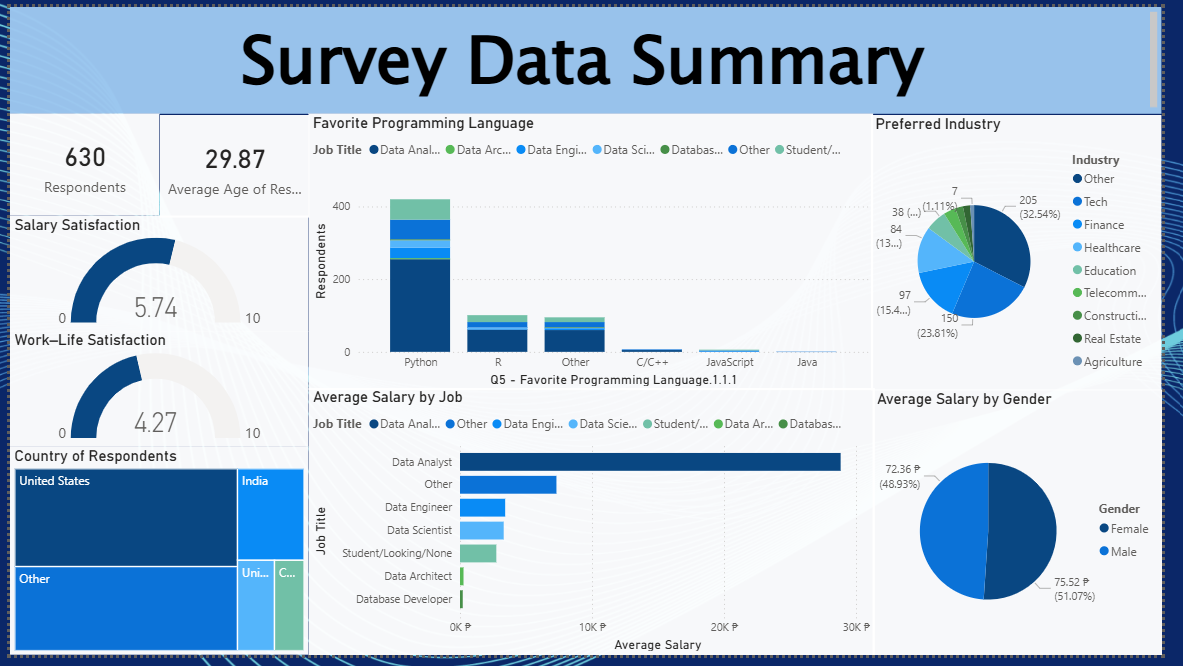

This screenshot's page, from the dashboard's own definition file:
{"tool":"powerbi","page":{"name":"Page 1","canvas":[1280,720],"ordinal":0},"visuals":[{"type":"textbox","box":[0,0,1279.4,118.5],"z":0},{"type":"card","fields":{"Values":["CountNonNull(Data Professional Survey.Unique ID)"]},"box":[0,119,166,113],"z":1000},{"type":"card","fields":{"Values":["Avg(Data Professional Survey.Q10 - Current Age)"]},"box":[166,120,166,114],"z":2000},{"type":"barChart","title":"Average Salary by Job","fields":{"Category":["Data Professional Survey.Q1 - Which Title Best Fits your Current Role?.1"],"Y":["Sum(Data Professional Survey.Average Salary)"],"Series":["Data Professional Survey.Q1 - Which Title Best Fits your Current Role?.1"]},"box":[331,423,629,297],"z":3000},{"type":"columnChart","title":"Favorite Programming Language ","fields":{"Category":["Data Professional Survey.Q5 - Favorite Programming Language.1.1.1"],"Y":["CountNonNull(Data Professional Survey.Unique ID)"],"Series":["Data Professional Survey.Q1 - Which Title Best Fits your Current Role?.1"]},"box":[331.2,118.8,627.5,307.5],"z":4000},{"type":"treemap","title":"Country of Respondents","fields":{"Group":["Data Professional Survey.Q11 - Which Country do you live in?.1"],"Values":["CountNonNull(Data Professional Survey.Q11 - Which Country do you live in?.1)"]},"box":[0,488.6,331.4,231.4],"z":5000},{"type":"gauge","title":"Salary Satisfaction","fields":{"Y":["Avg(Data Professional Survey.Q6 - How Happy are you in your Current Position with the following? (Work/Life Balance))"],"MaxValue":["Max(Data Professional Survey.Q6 - How Happy are you in your Current Position with the following? (Work/Life Balance))"],"MinValue":["Min(Data Professional Survey.Q6 - How Happy are you in your Current Position with the following? (Work/Life Balance))"]},"box":[0,231.4,331.4,128.6],"z":6000},{"type":"gauge","title":"Work–Life Satisfaction","fields":{"Y":["Avg(Data Professional Survey.Q6 - How Happy are you in your Current Position with the following? (Salary))"],"MinValue":["Min(Data Professional Survey.Q6 - How Happy are you in your Current Position with the following? (Salary))"],"MaxValue":["Max(Data Professional Survey.Q6 - How Happy are you in your Current Position with the following? (Salary))"]},"box":[0,360,331.4,128.6],"z":7000},{"type":"pieChart","title":"Average Salary by Gender","fields":{"Category":["Data Professional Survey.Q9 - Male/Female?"],"Y":["Avg(Data Professional Survey.Average Salary)"]},"box":[957.5,425,322.5,295],"z":8000},{"type":"pieChart","title":"Preferred Industry","fields":{"Category":["Data Professional Survey.Q4 - What Industry do you work in?.1"],"Y":["CountNonNull(Data Professional Survey.Unique ID)"]},"box":[956.9,119.3,322.4,305.7],"z":8001}]}

Visuals, with their boxes in screenshot pixels (x1, y1, x2, y2), scaled from the page's 1280x720 canvas onto the 1183x666 screenshot:
textbox: left=0, top=0, right=1182, bottom=110
card - CountNonNull(Data Professional Survey.Unique ID): left=0, top=110, right=153, bottom=215
card - Avg(Data Professional Survey.Q10 - Current Age): left=153, top=111, right=307, bottom=216
"Average Salary by Job" barChart: left=306, top=391, right=887, bottom=665
"Favorite Programming Language " columnChart: left=306, top=110, right=886, bottom=394
"Country of Respondents" treemap: left=0, top=452, right=306, bottom=665
"Salary Satisfaction" gauge: left=0, top=214, right=306, bottom=333
"Work–Life Satisfaction" gauge: left=0, top=333, right=306, bottom=452
"Average Salary by Gender" pieChart: left=885, top=393, right=1182, bottom=665
"Preferred Industry" pieChart: left=884, top=110, right=1182, bottom=393
